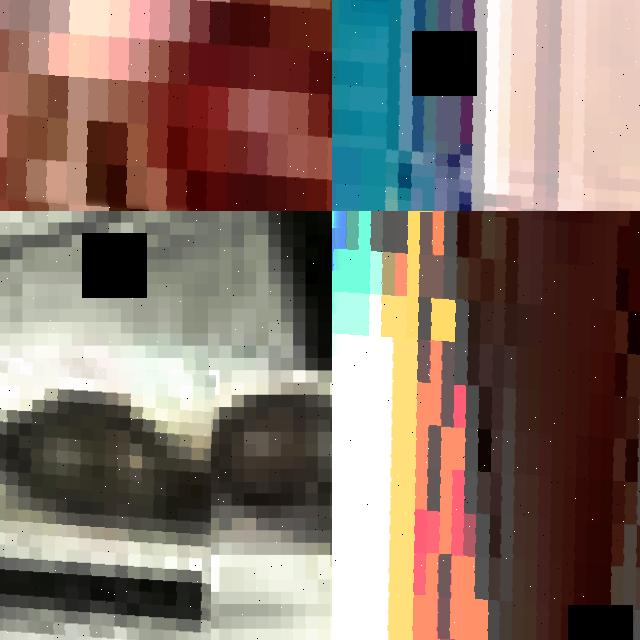arms: (332, 211, 640, 640), (0, 0, 332, 211), (332, 0, 640, 211), (0, 350, 211, 640), (0, 370, 194, 530), (207, 358, 332, 555)
